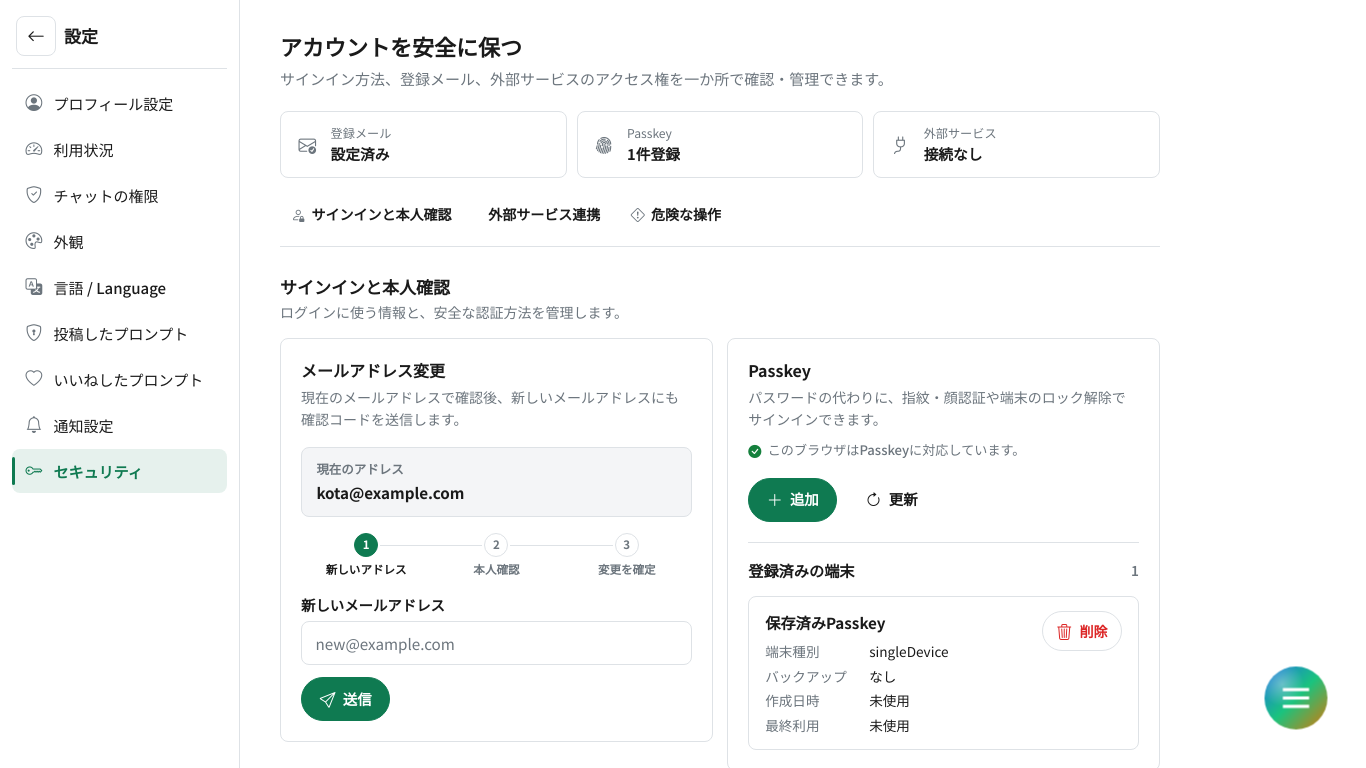
it: settings passkey loading › loads passkeys once on a direct security URL and refreshes them in the selected locale on revisit
expect the text "保存済みPasskey" is shown: met, box [765,611,886,633]
Click the button "言語 / Language". click: (120, 287)
box: [12,265,227,309]
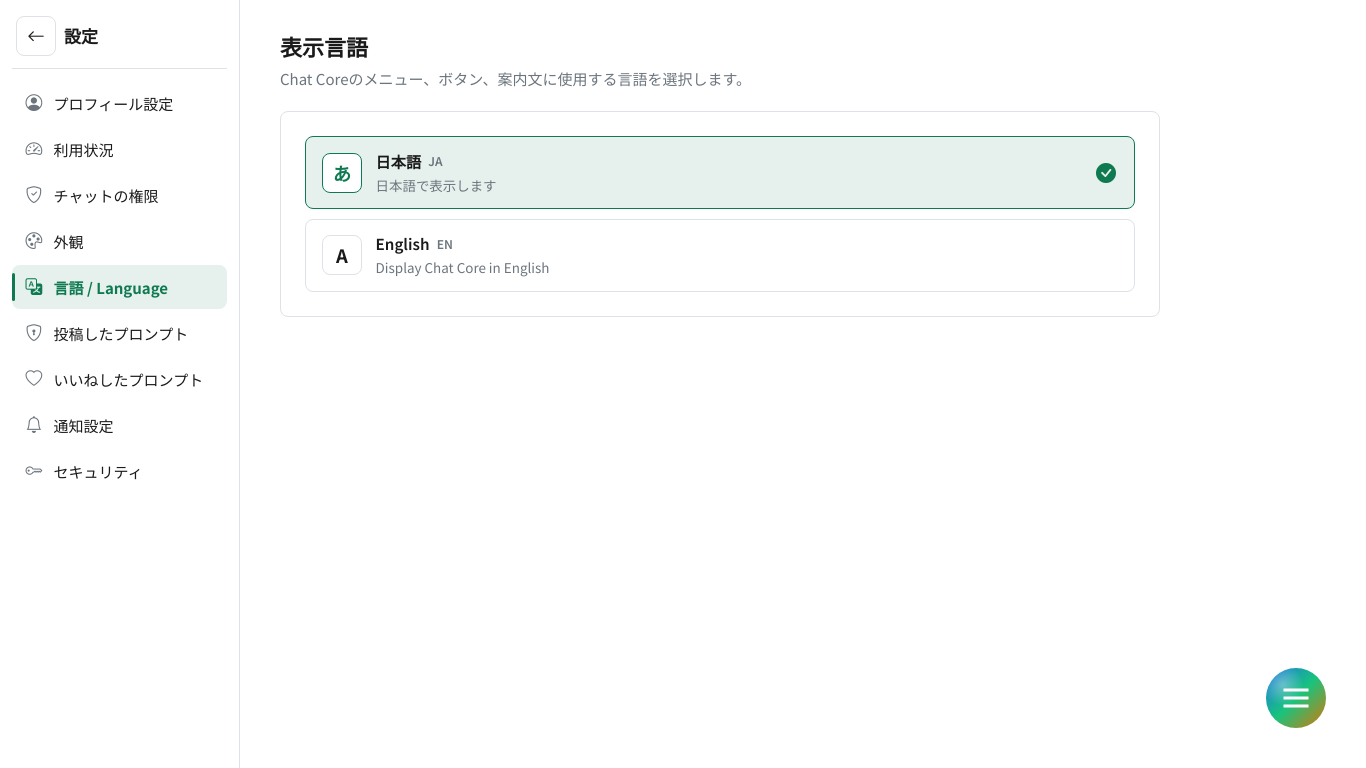
Click the radio button labelled "A English EN Display Chat Core in English". click: (342, 255)
box: [305,219,1135,292]
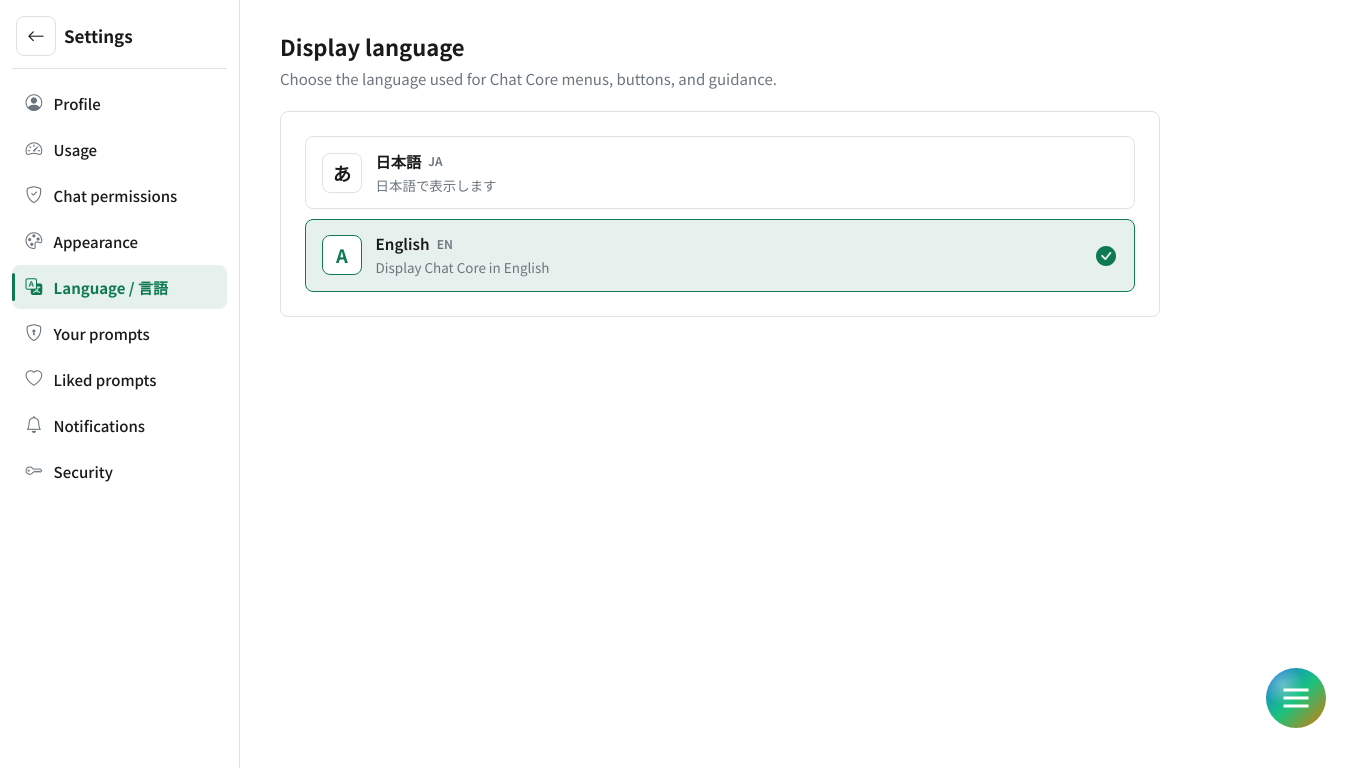
expect the heading "Display language" is shown: met, box [280,30,465,62]
Click the button "Security". click: (120, 471)
box: [12,449,227,493]
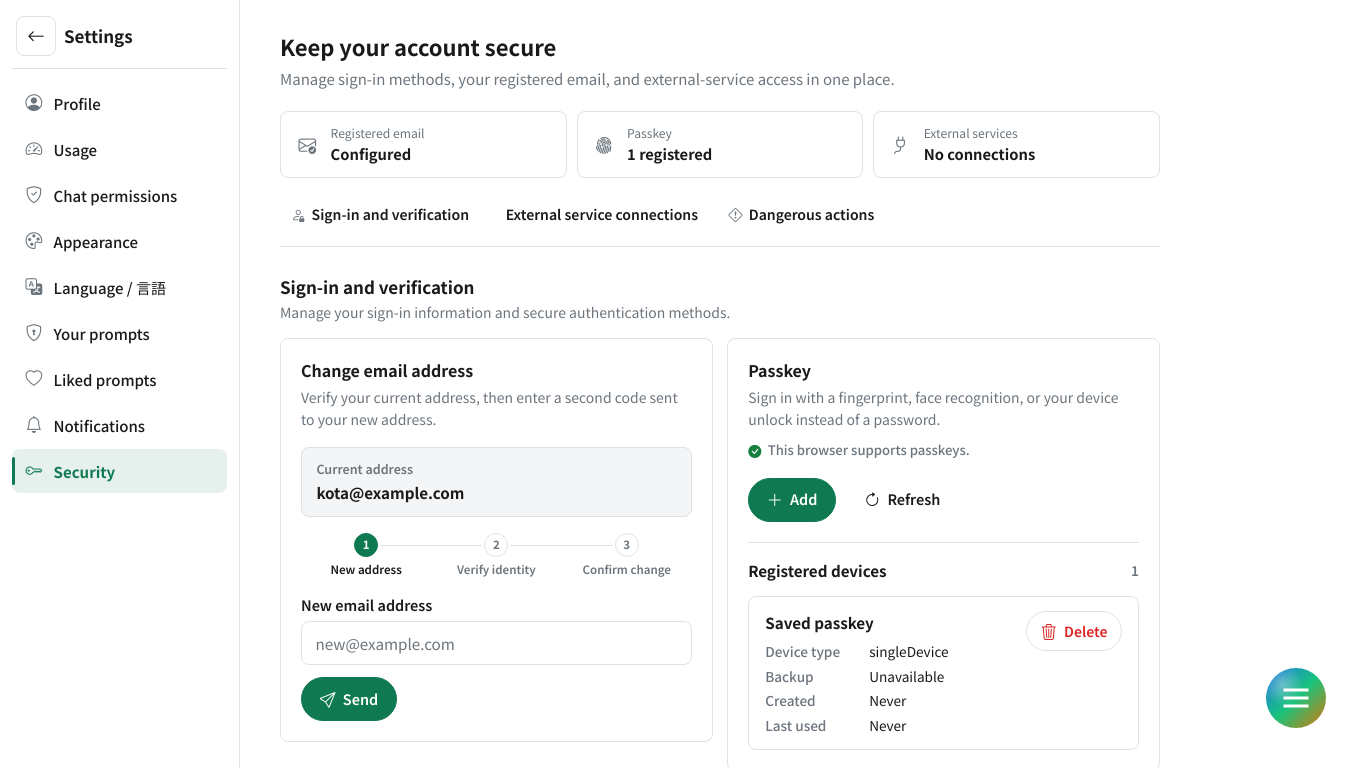
expect the text "Saved passkey" is shown: met, box [765,611,874,633]
